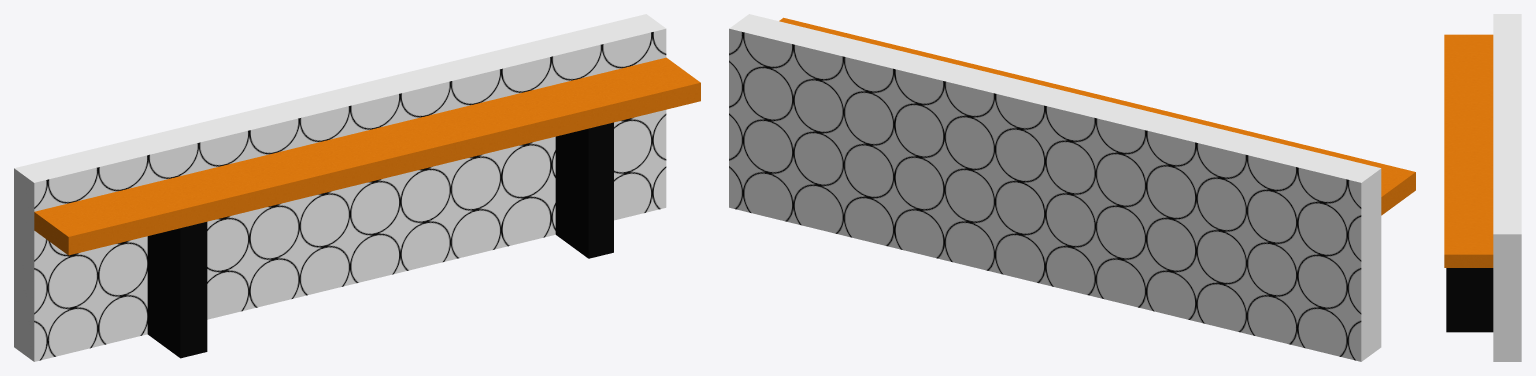
The model's file is zabradlie.obj.
The picture shows the model from 3 angles, left to right: view 1: azimuth 30°, elevation 25°; view 2: azimuth 150°, elevation 25°; view 3: azimuth 270°, elevation 25°; orthographic projection. The views are drawn at different scales.
Parts seen in each view (by area): view 1: Mesh1 Model; view 2: Mesh1 Model; view 3: Mesh1 Model.
Boxes of the visible parts, <box> form: Mesh1 Model: <box>14,14,700,361</box>; Mesh1 Model: <box>729,14,1415,361</box>; Mesh1 Model: <box>1444,14,1521,361</box>.
Bounding box in the file's own units: 2.55 × 0.69 × 0.38.
Materials: 5 (2 with a texture image).
